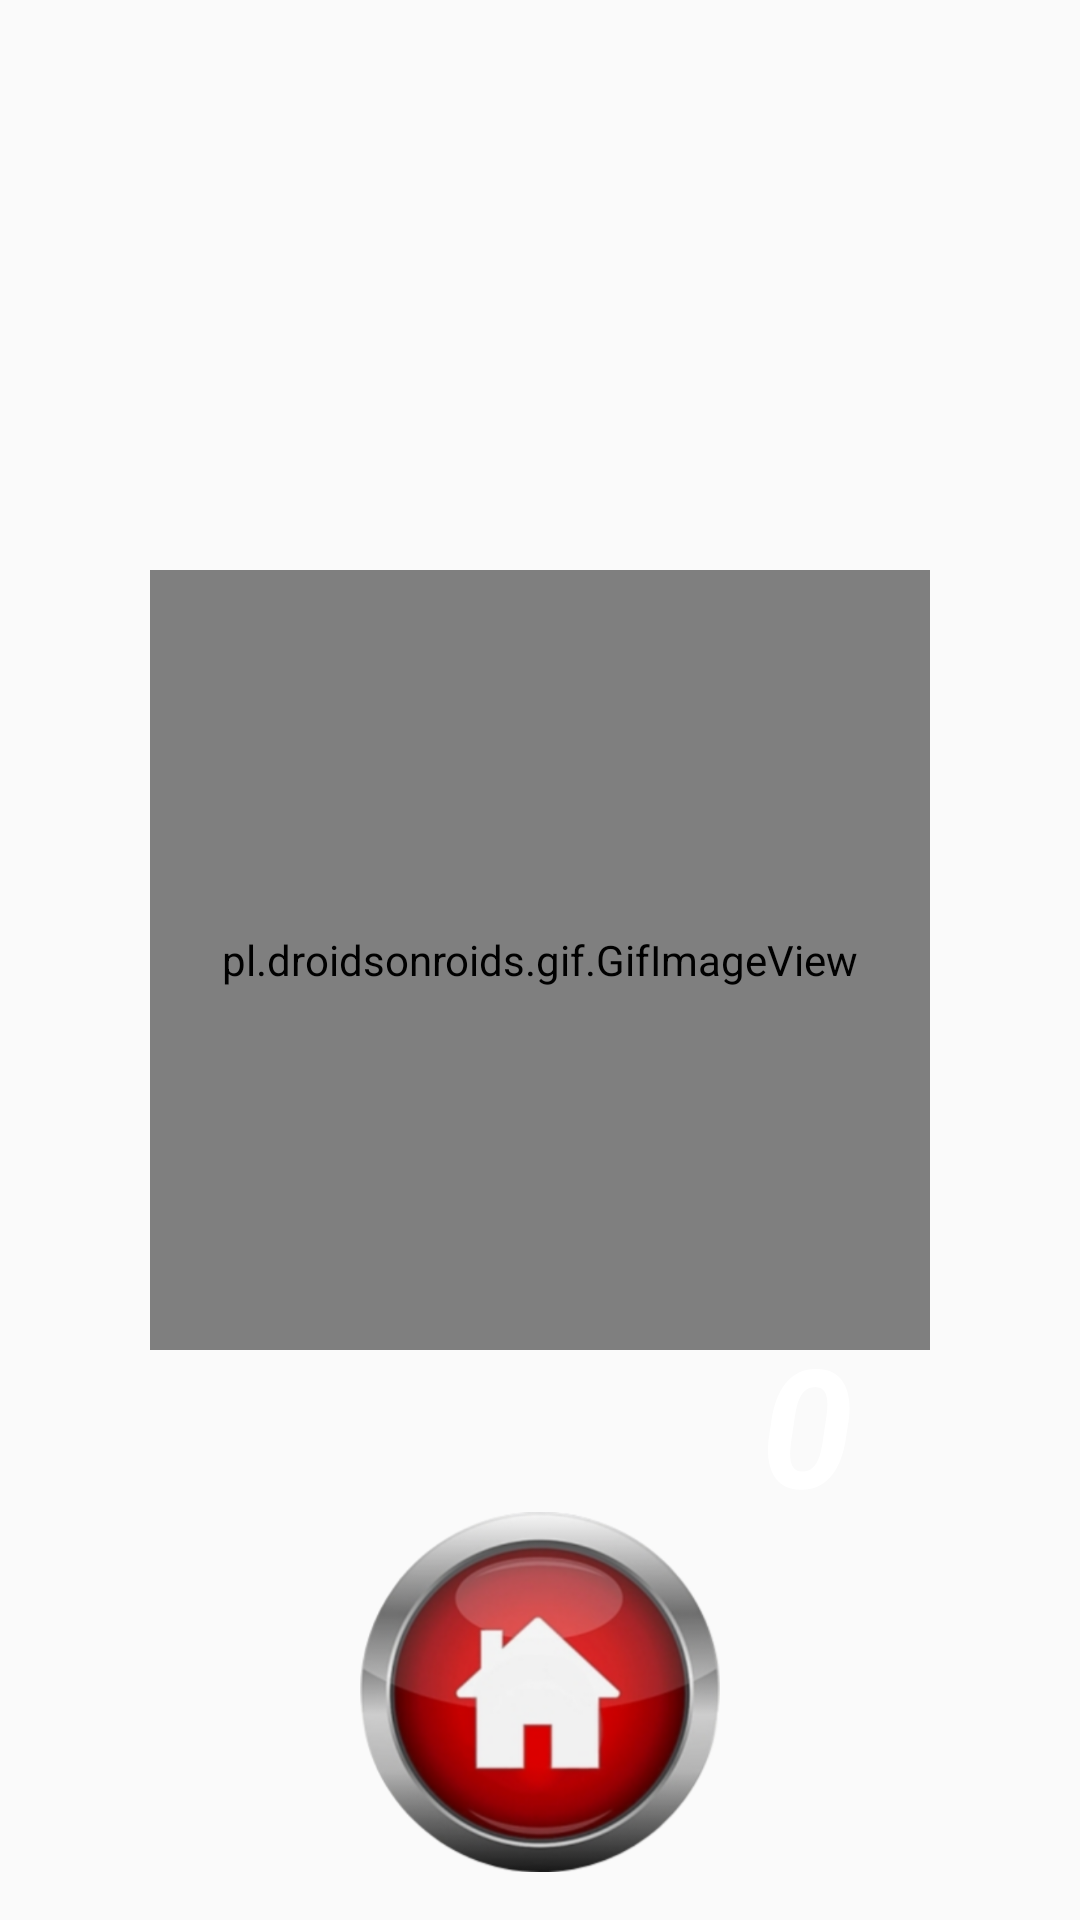

Named icons in this screenshot (1080px x 1920px) and their centers, [x,y]:
home: [540,1692]
